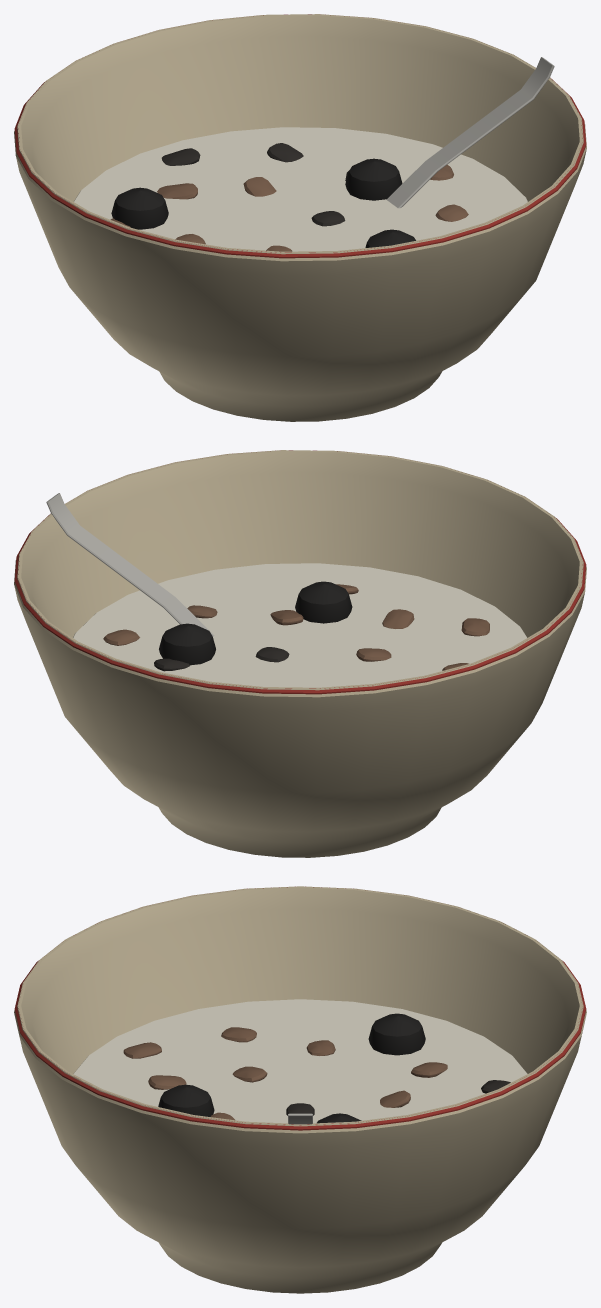
The model's file is cereal-bowl-2fe62eeb436d.glb.
3 views of the same model, one above another, from view 1: azimuth 30°, elevation 25°; view 2: azimuth 150°, elevation 25°; view 3: azimuth 270°, elevation 25° (orthographic).
Parts seen in each view (by area): view 1: enamel-beige, enamel, enamel-black, brushed, enamel-red, wood, cone-paper; view 2: enamel-beige, enamel, enamel-black, enamel-red, brushed, wood, cone-paper; view 3: enamel-beige, enamel, enamel-black, enamel-red, wood, cone-paper.
Boxes of the visible parts, left/top/right/bottom form: enamel-beige: left=14, top=14, right=586, bottom=421; enamel: left=74, top=127, right=527, bottom=251; enamel-black: left=111, top=158, right=415, bottom=247; brushed: left=386, top=57, right=554, bottom=208; enamel-red: left=14, top=14, right=586, bottom=258; wood: left=110, top=164, right=468, bottom=251; cone-paper: left=161, top=143, right=349, bottom=226; enamel-beige: left=14, top=450, right=586, bottom=857; enamel: left=73, top=563, right=526, bottom=687; enamel-black: left=159, top=581, right=352, bottom=665; enamel-red: left=14, top=450, right=586, bottom=694; brushed: left=46, top=493, right=214, bottom=636; wood: left=103, top=584, right=489, bottom=670; cone-paper: left=154, top=647, right=289, bottom=671; enamel-beige: left=14, top=886, right=586, bottom=1293; enamel: left=73, top=999, right=527, bottom=1123; enamel-black: left=158, top=1013, right=425, bottom=1123; enamel-red: left=14, top=886, right=586, bottom=1130; wood: left=123, top=1027, right=447, bottom=1120; cone-paper: left=286, top=1080, right=510, bottom=1115.
Size of the model in its own units: 0.16 by 0.0738 by 0.16.
